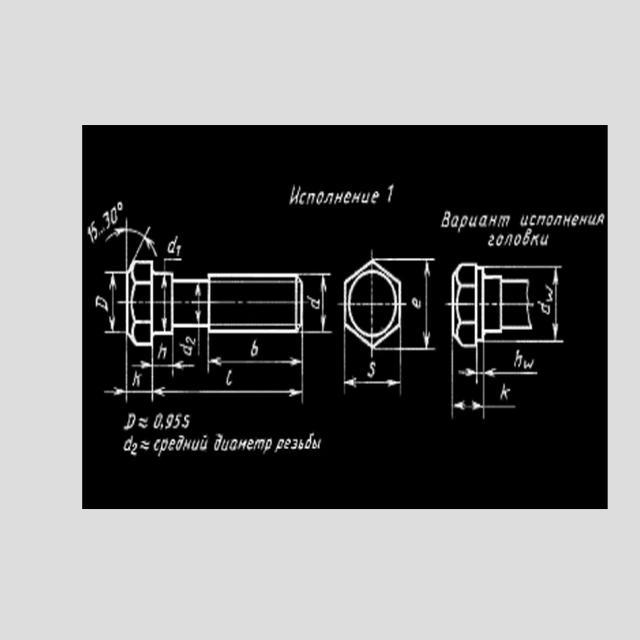marking_line: (155, 387, 303, 396), (208, 355, 300, 365), (422, 265, 432, 348), (345, 375, 399, 389), (108, 274, 118, 333), (456, 363, 495, 378), (161, 276, 169, 332), (554, 269, 560, 340), (193, 284, 204, 322), (452, 399, 480, 413), (319, 275, 326, 328), (104, 385, 124, 396), (132, 359, 151, 369), (172, 361, 194, 369)
numeric: (153, 412, 190, 428), (103, 205, 121, 232), (86, 220, 99, 247)
